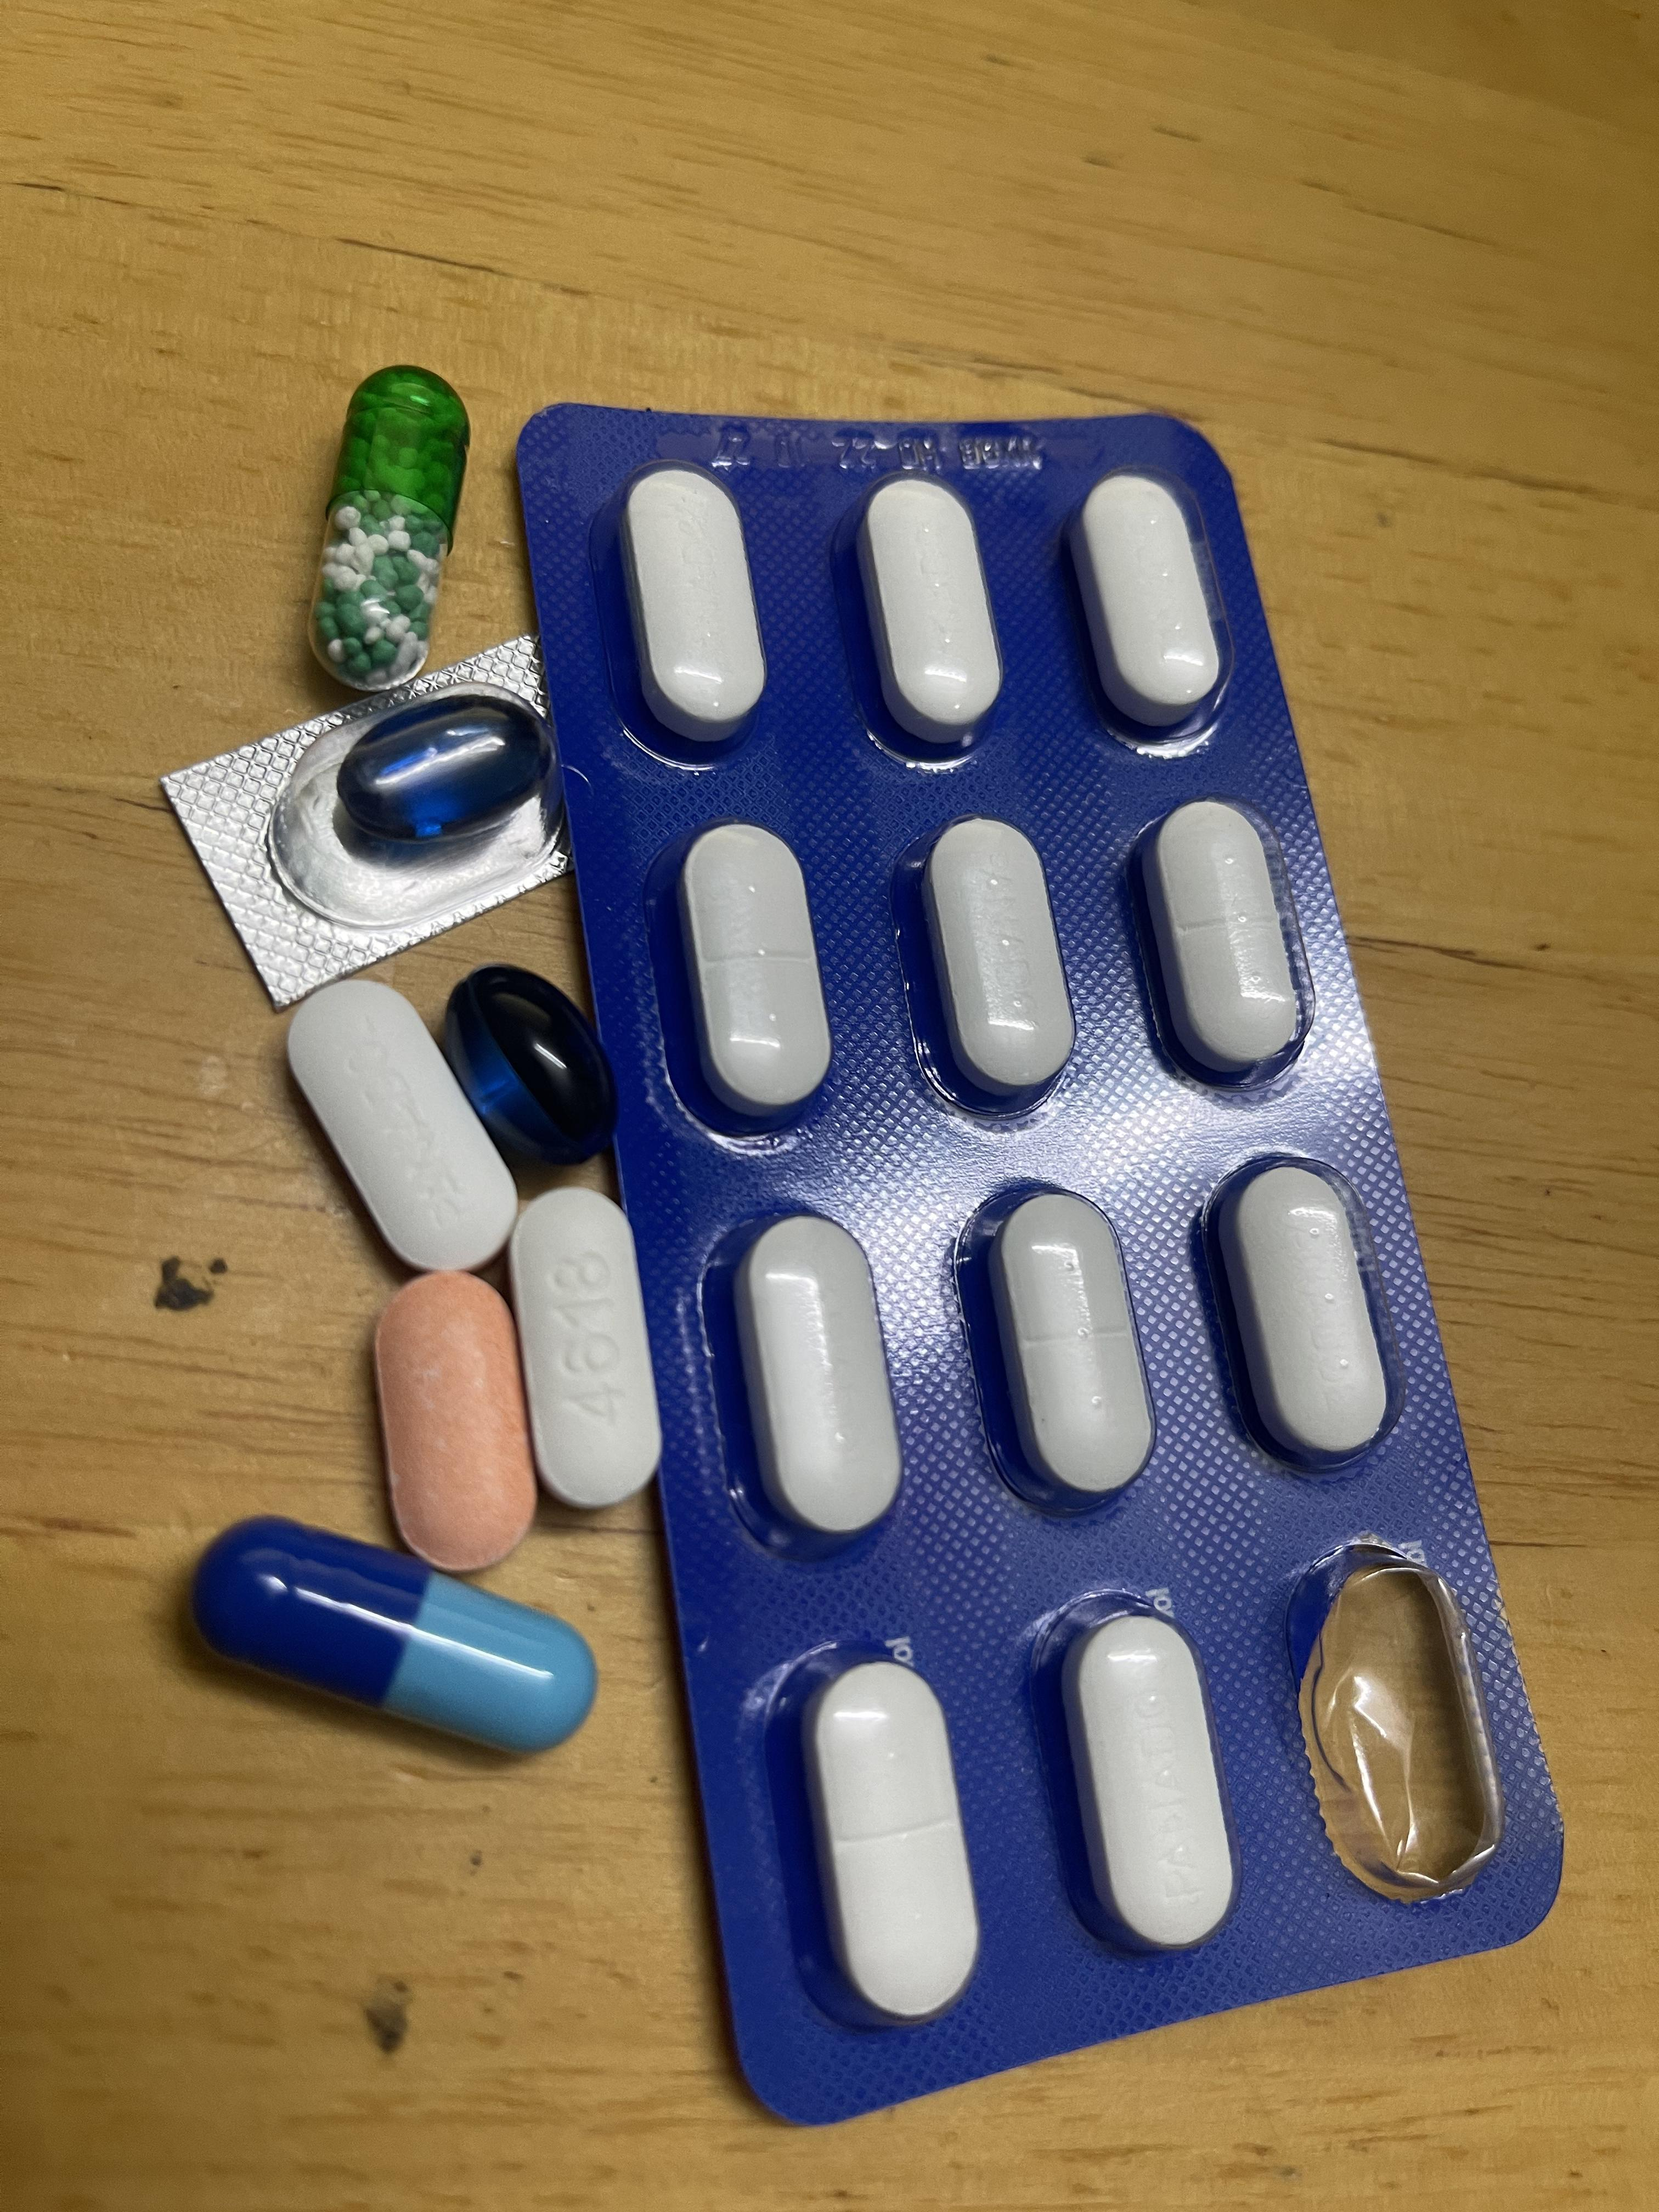Lincomyxin_500mg: (444, 963, 620, 1165), (333, 688, 549, 850)
Loratadine_10mg: (376, 1277, 533, 1559)
Paracetamol_350mg: (1039, 1592, 1239, 1961), (796, 1649, 981, 2026), (965, 1177, 1157, 1517), (1206, 1151, 1396, 1477), (727, 1212, 904, 1547), (291, 989, 509, 1259), (1129, 796, 1307, 1097), (673, 826, 836, 1130), (917, 812, 1079, 1108), (1068, 467, 1229, 738), (619, 462, 770, 745), (854, 472, 1006, 752)
Paracetamol_500mg: (512, 1197, 657, 1487)
Paracetamol_650mg: (319, 374, 465, 674)
pill: (214, 1547, 587, 1756)
